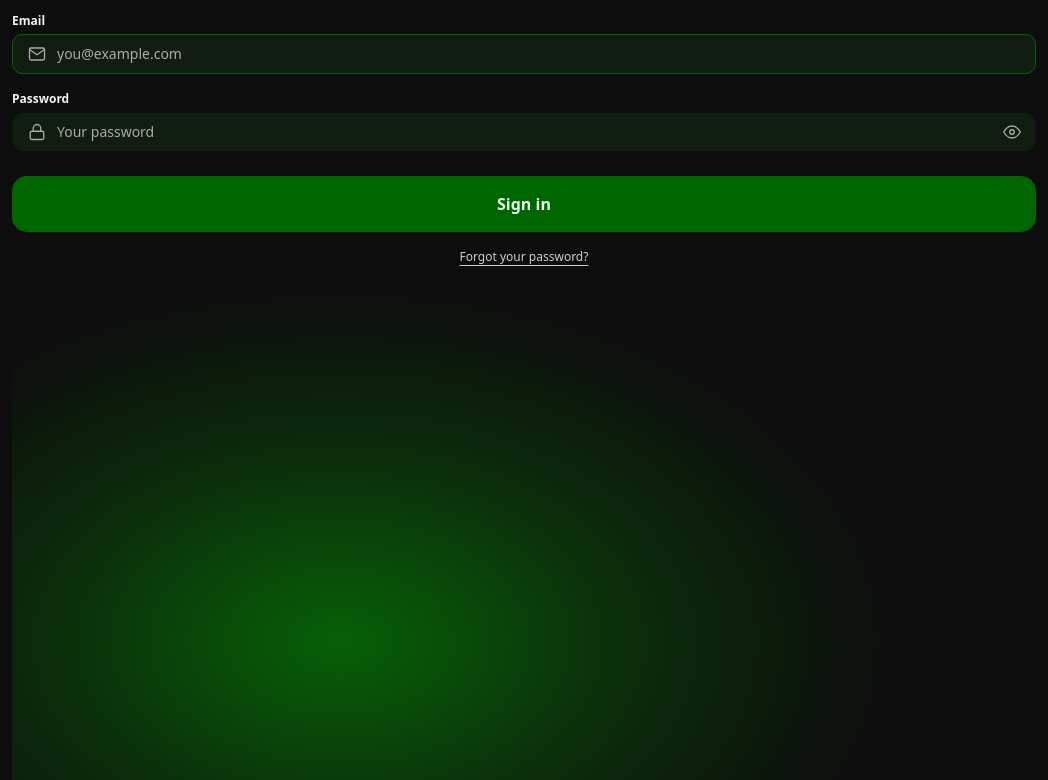
Test case: LoginForm › renders the exact FR-013 copy for ACCOUNT_INACTIVE, not the generic invalid-credentials text
Type "trainer@example.com" into the field labelled "Email" at (524, 54), box [12,34,1036,74]
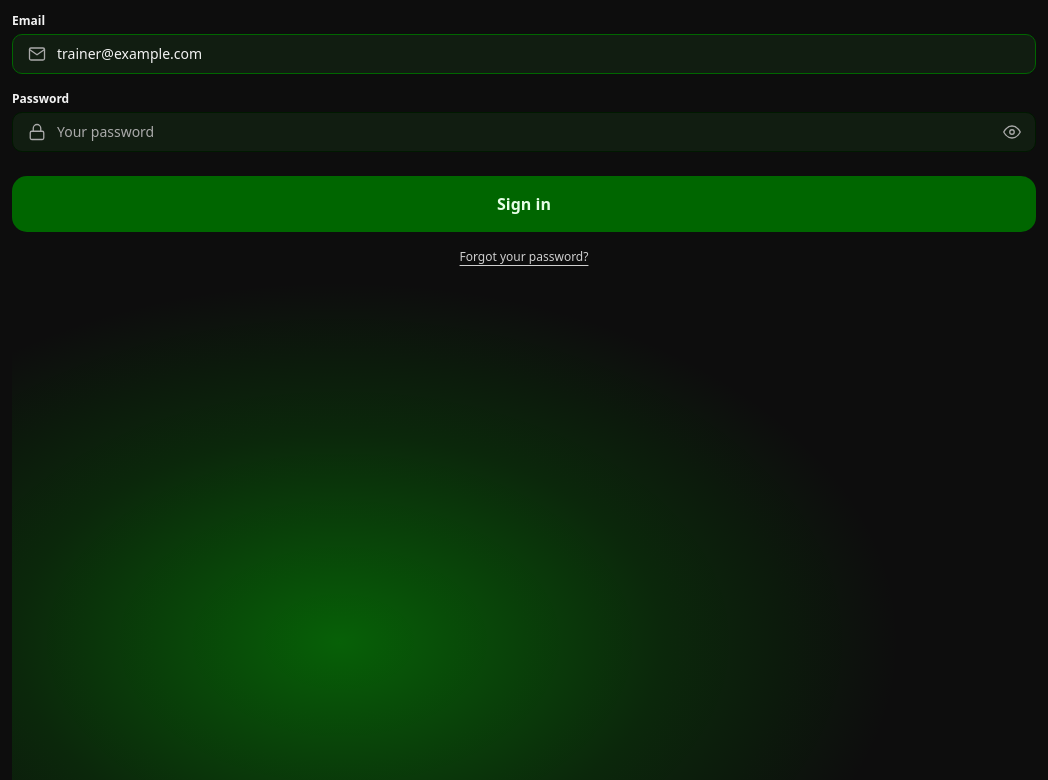
Type "Password1" into the password field labelled "Password" at (524, 132), box [12,112,1036,152]
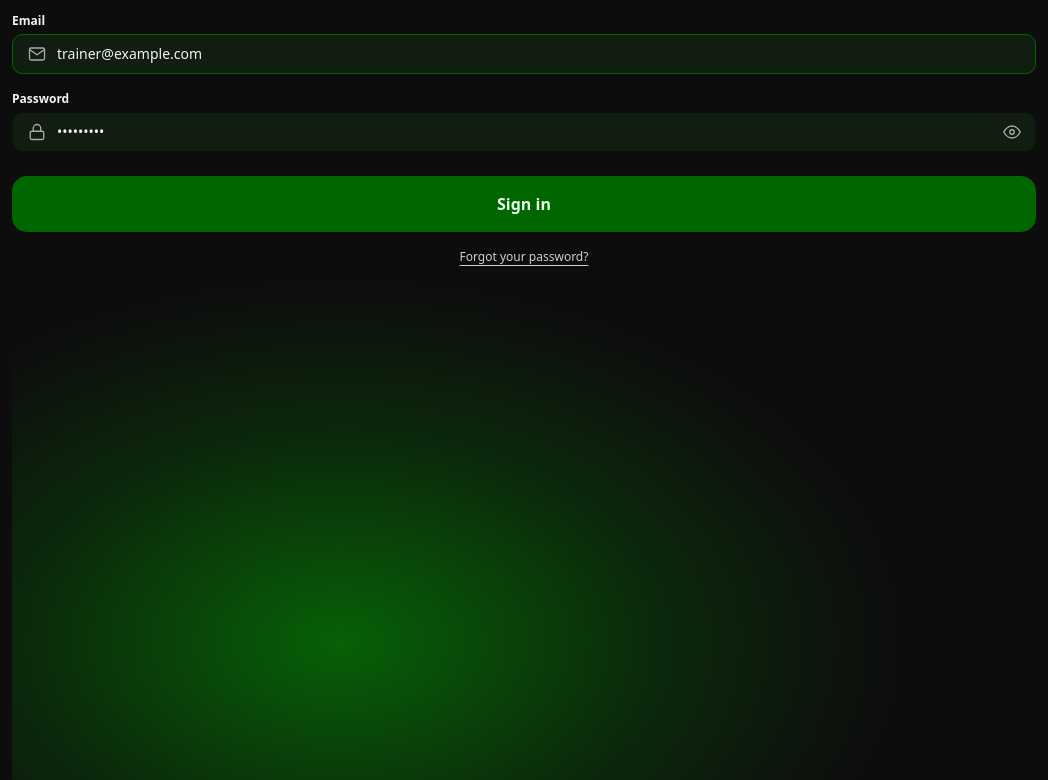
Click the button "Sign in" at (524, 204), box [12,176,1036,232]
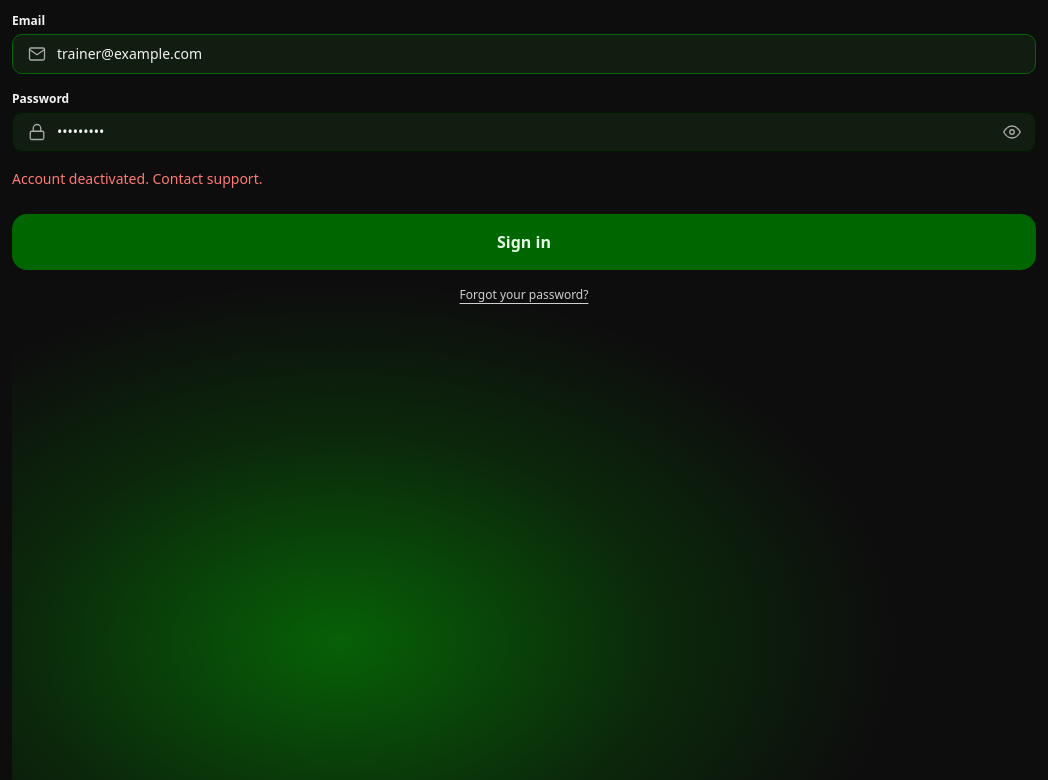
expect the text "Account deactivated. Contact support." is shown: met, box [12,169,262,188]
